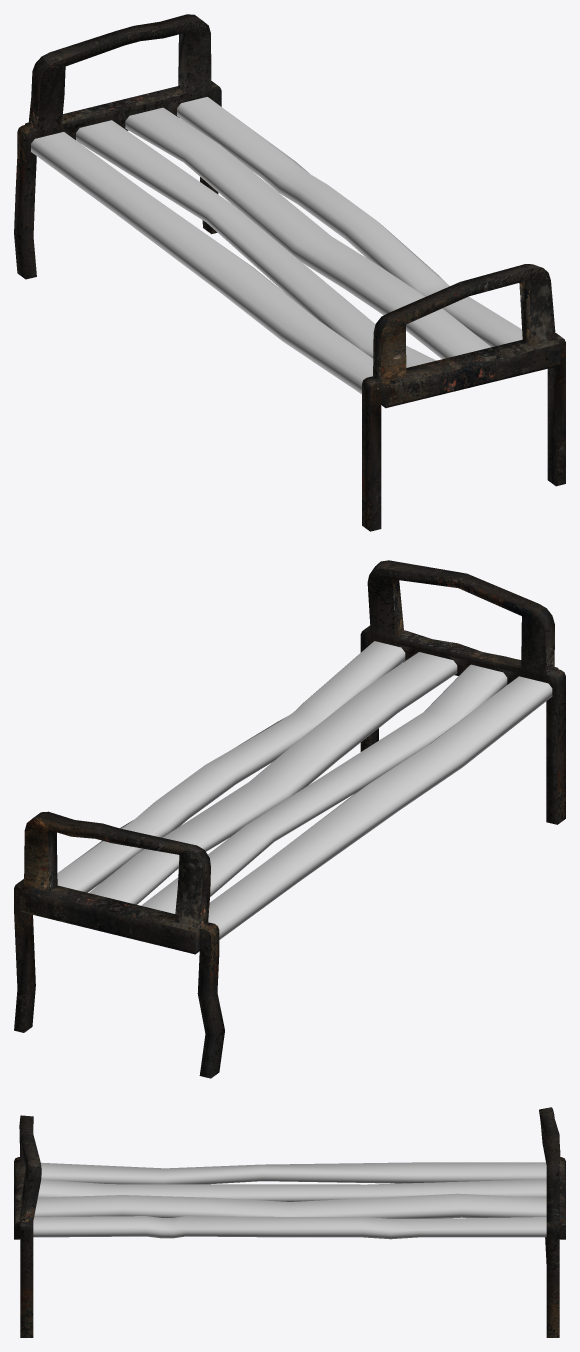
File: Bank.fbx
The picture shows the model from 3 angles, top to bottom: view 1: azimuth 30°, elevation 25°; view 2: azimuth 150°, elevation 25°; view 3: azimuth 270°, elevation 25°; orthographic projection. The views are drawn at different scales.
Parts seen in each view (by area): view 1: Bank, Iron; view 2: Bank, Iron; view 3: Bank, Iron.
Part boxes in pixels (bbox=[...]): Bank: bbox=[31, 97, 522, 394]; Iron: bbox=[14, 14, 565, 531]; Bank: bbox=[57, 641, 552, 939]; Iron: bbox=[14, 560, 565, 1078]; Bank: bbox=[33, 1162, 546, 1239]; Iron: bbox=[14, 1107, 565, 1337].
Bounding box in the file's own units: 184 × 192 × 573.
